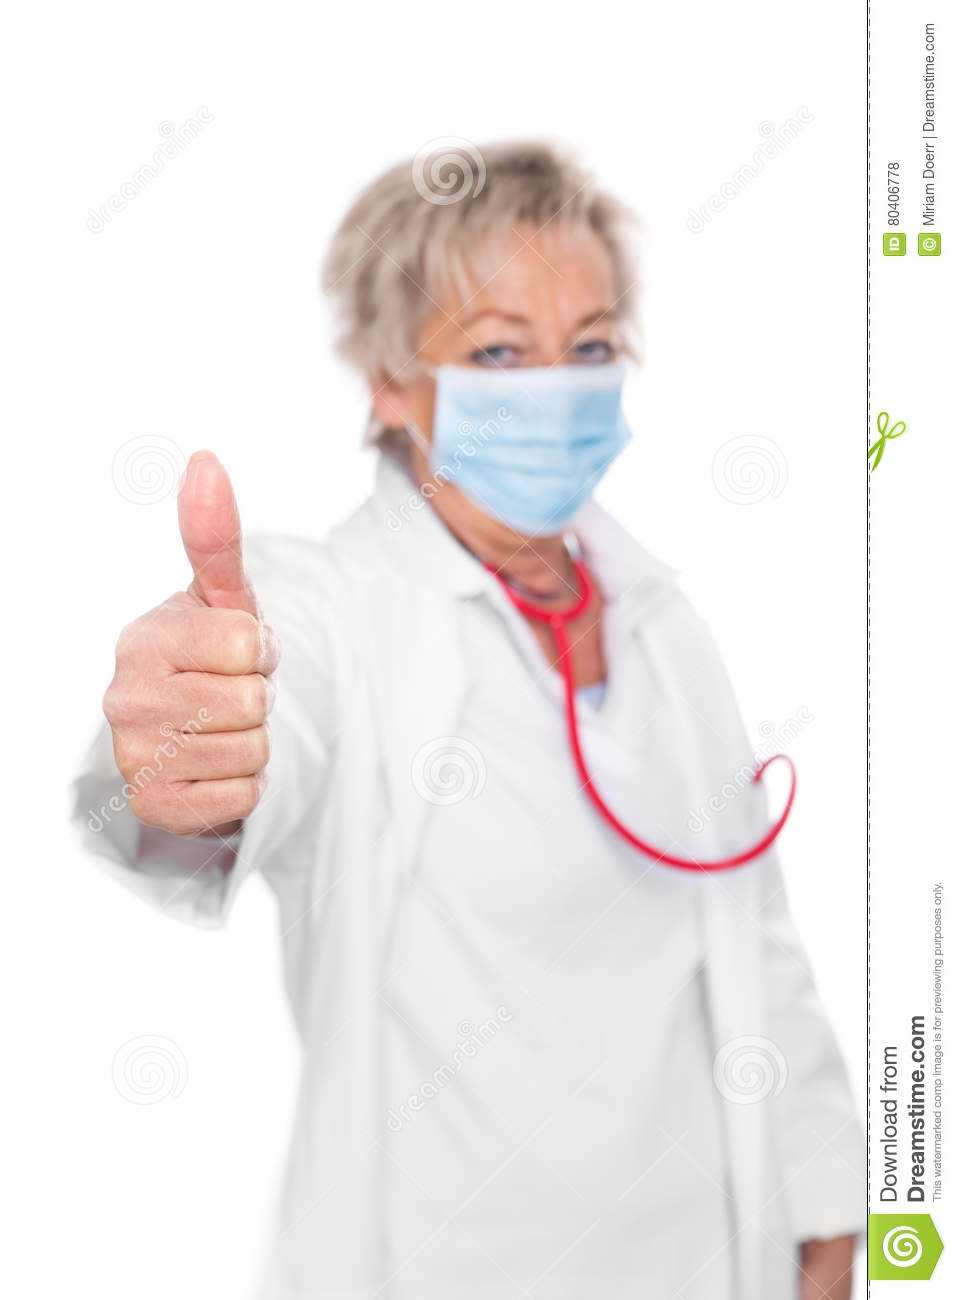mask: (422, 363, 634, 541)
